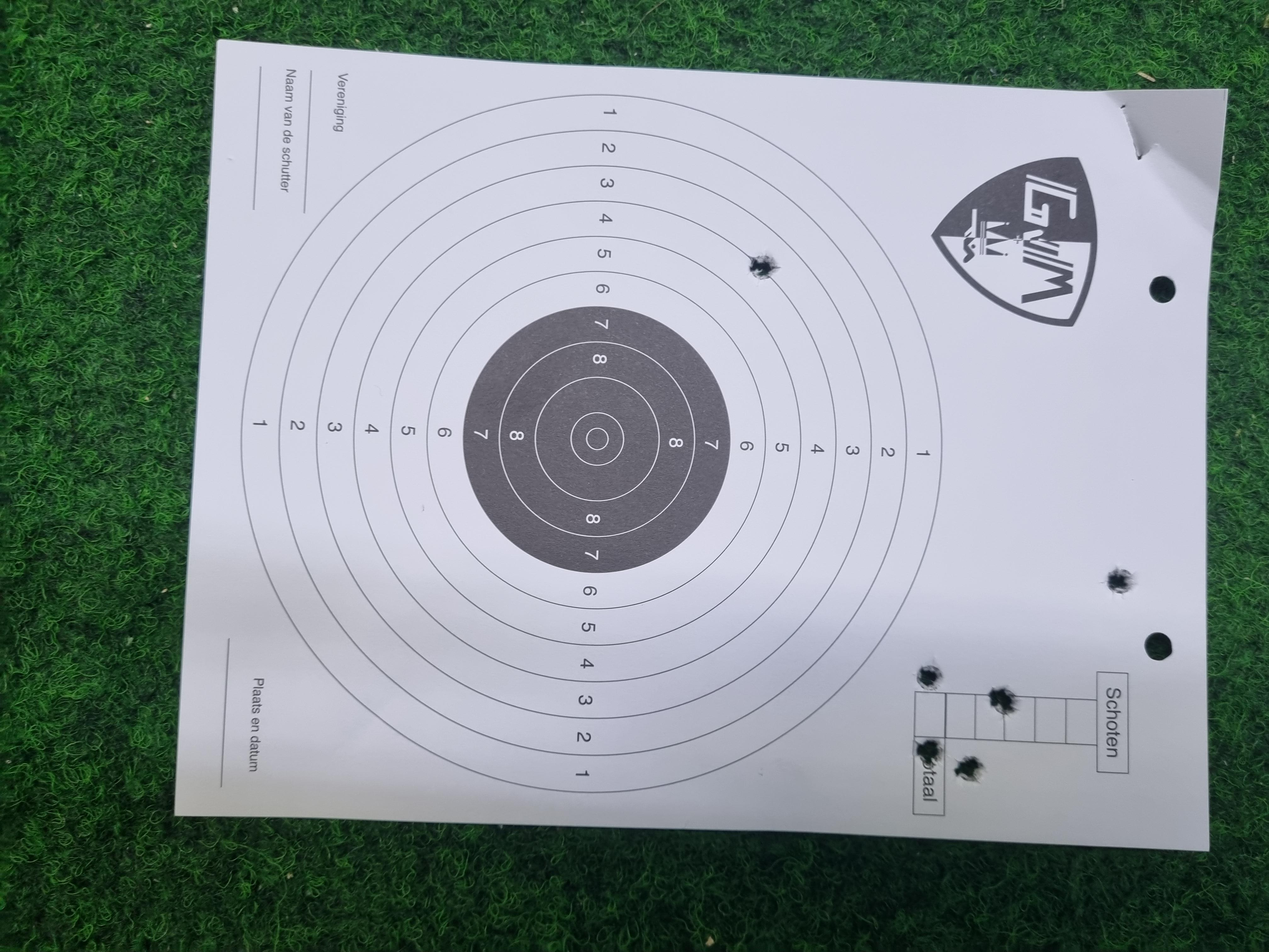hole: (224, 716, 262, 740), (315, 742, 353, 765), (247, 686, 283, 709), (476, 829, 510, 852), (347, 687, 384, 708), (896, 562, 928, 586)
